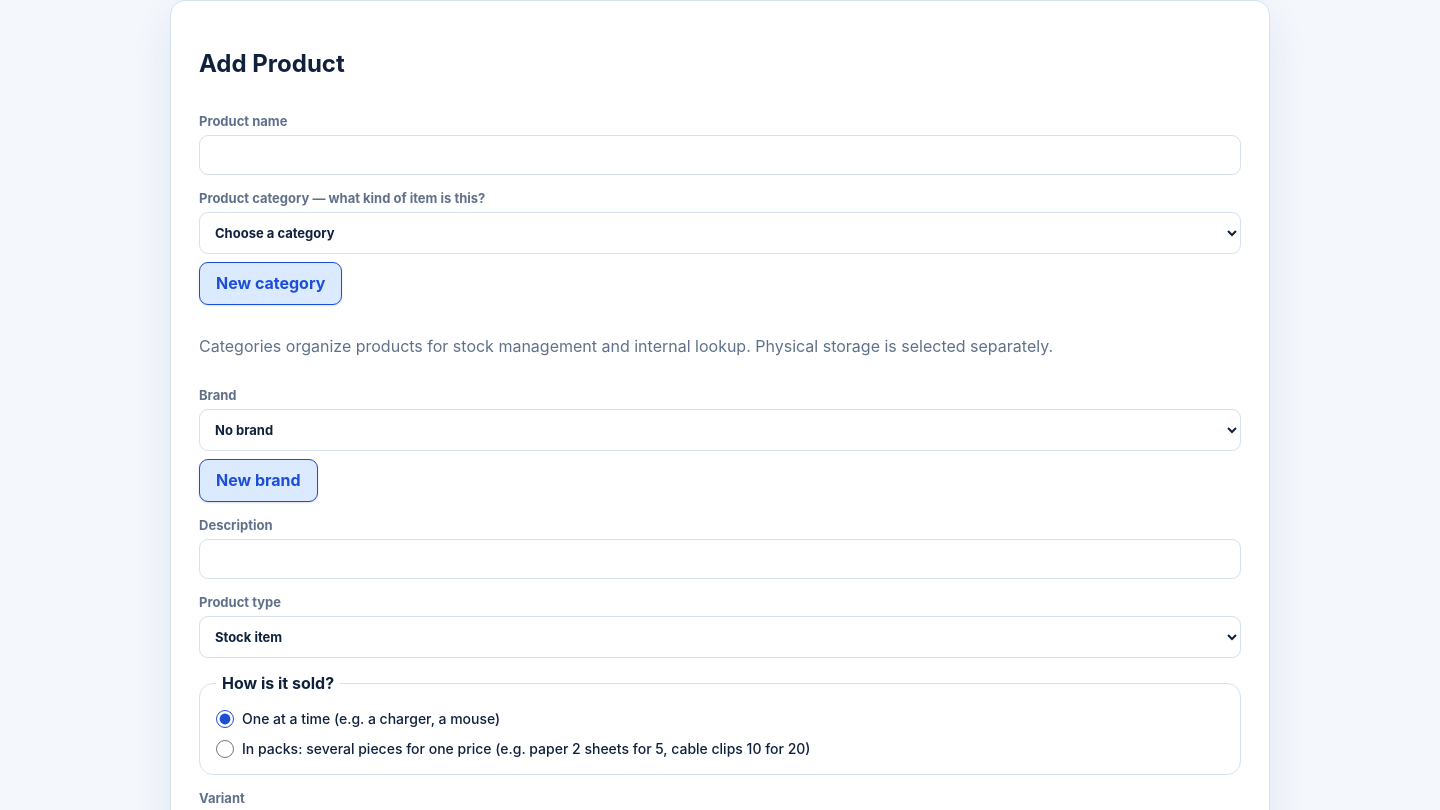
Test case: hides the rack choice without Shelf management, and New category without permission to add one
Click the button "New category": click(271, 283) [199,262,342,305]
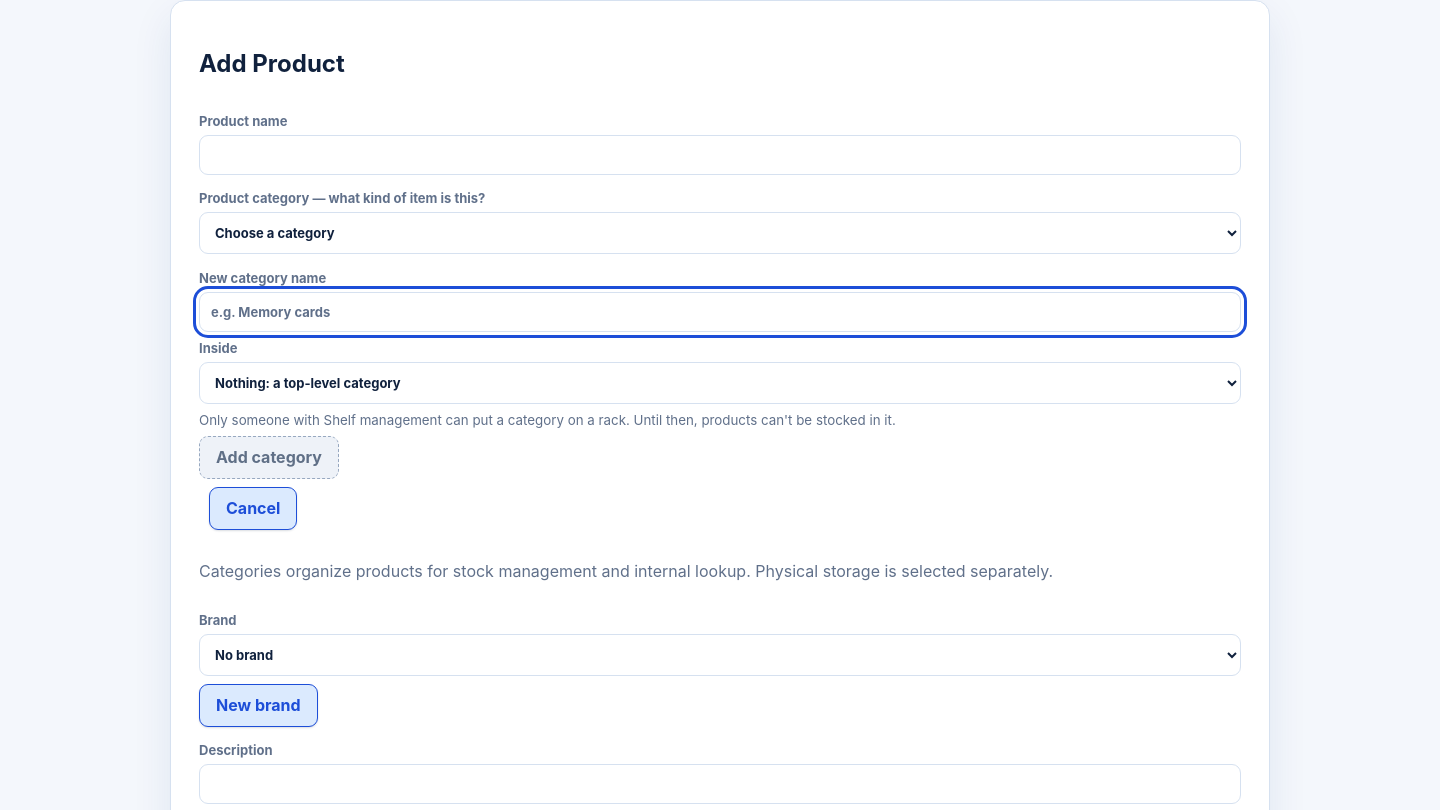
Now the text "Only someone with Shelf management" is shown, box [199,412,896,428]
